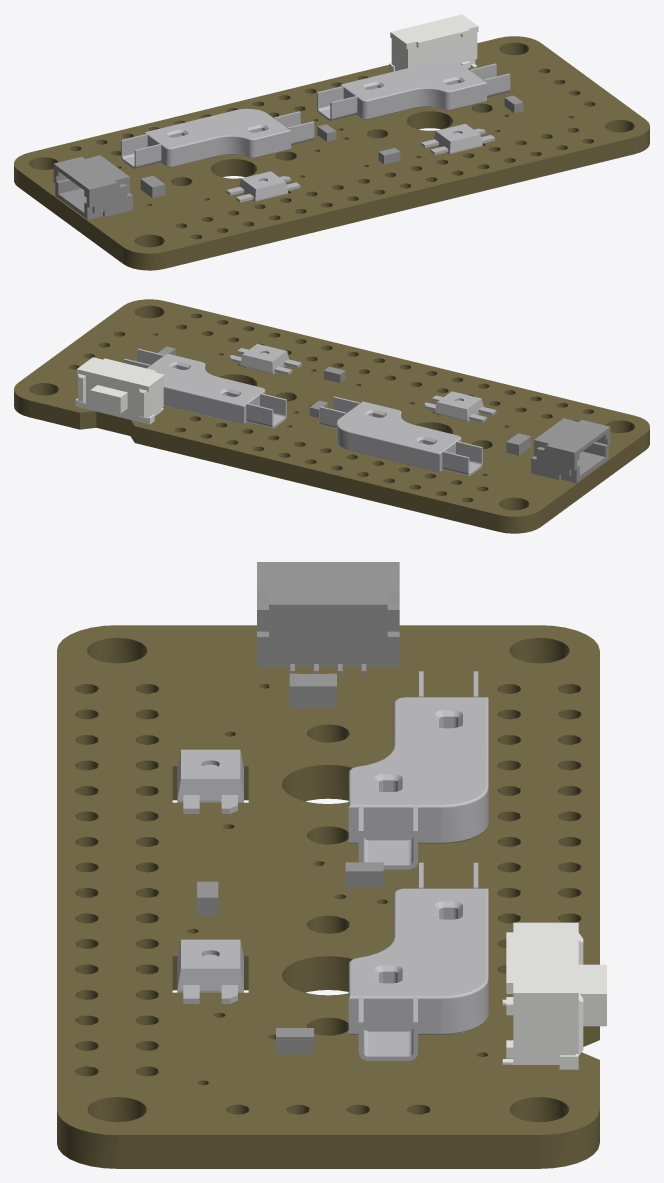
Rendered from ada-4979.glb.
3 views of the same model, one above another, from view 1: azimuth 30°, elevation 25°; view 2: azimuth 150°, elevation 25°; view 3: azimuth 270°, elevation 25° (orthographic). The views are drawn at different scales.
Visible parts, largest first — view 1: 0.16666666666666666_0.16666666666666666_0.08333333333333333_, 0.5833333333333334_0.5833333333333334_0.5833333333333334_0.8, 0.3333333333333333_0.3333333333333333_0.3333333333333333_0, 0.9166666666666666_0.9166666666666666_0.9166666666666666_0.8; view 2: 0.16666666666666666_0.16666666666666666_0.08333333333333333_, 0.5833333333333334_0.5833333333333334_0.5833333333333334_0.8, 0.3333333333333333_0.3333333333333333_0.3333333333333333_0, 0.9166666666666666_0.9166666666666666_0.9166666666666666_0.8; view 3: 0.16666666666666666_0.16666666666666666_0.08333333333333333_, 0.5833333333333334_0.5833333333333334_0.5833333333333334_0.8, 0.3333333333333333_0.3333333333333333_0.3333333333333333_0, 0.9166666666666666_0.9166666666666666_0.9166666666666666_0.8.
Boxes of the visible parts, x1,y1,x2,y2 form: 0.16666666666666666_0.16666666666666666_0.08333333333333333_: [14, 36, 649, 270]; 0.5833333333333334_0.5833333333333334_0.5833333333333334_0.8: [121, 61, 510, 202]; 0.3333333333333333_0.3333333333333333_0.3333333333333333_0: [53, 95, 523, 219]; 0.9166666666666666_0.9166666666666666_0.9166666666666666_0.8: [389, 14, 478, 71]; 0.16666666666666666_0.16666666666666666_0.08333333333333333_: [14, 299, 649, 533]; 0.5833333333333334_0.5833333333333334_0.5833333333333334_0.8: [123, 343, 496, 475]; 0.3333333333333333_0.3333333333333333_0.3333333333333333_0: [157, 346, 610, 482]; 0.9166666666666666_0.9166666666666666_0.9166666666666666_0.8: [75, 357, 164, 424]; 0.16666666666666666_0.16666666666666666_0.08333333333333333_: [57, 625, 599, 1168]; 0.5833333333333334_0.5833333333333334_0.5833333333333334_0.8: [177, 671, 488, 1060]; 0.3333333333333333_0.3333333333333333_0.3333333333333333_0: [197, 562, 399, 1054]; 0.9166666666666666_0.9166666666666666_0.9166666666666666_0.8: [502, 922, 606, 1069].
Bounding box in the file's own units: 5.08 × 0.5069 × 2.32.
